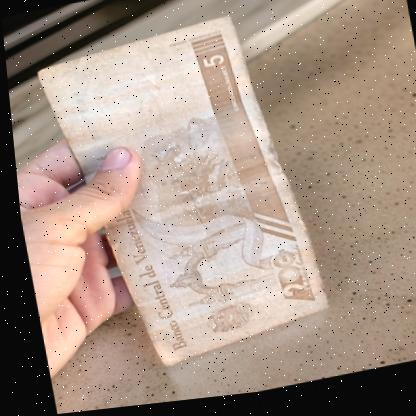five-back-vef: (30, 9, 329, 385)
